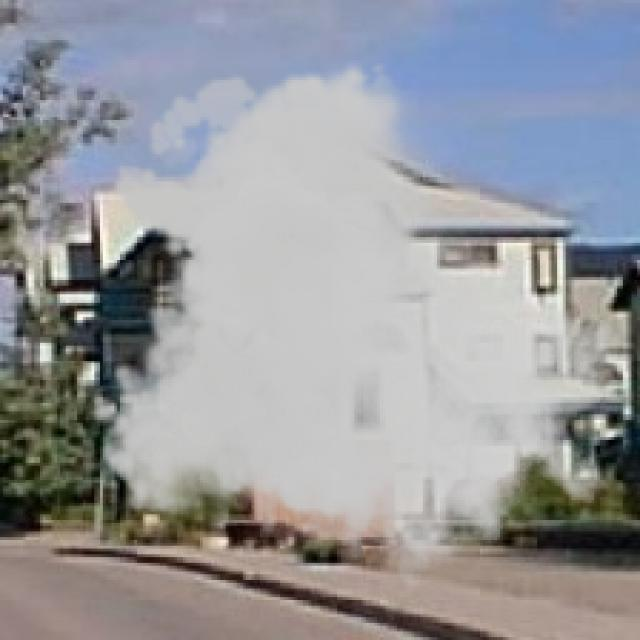Smoke: (89, 59, 626, 612)
